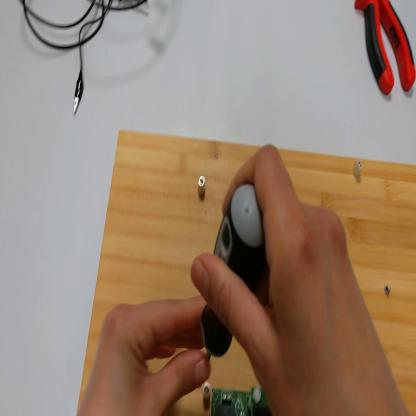hand: (193, 147, 400, 416), (83, 297, 210, 416)
pliers: (354, 1, 416, 99)
screwdriver-: (197, 183, 265, 394)
working area: (82, 128, 416, 415)
